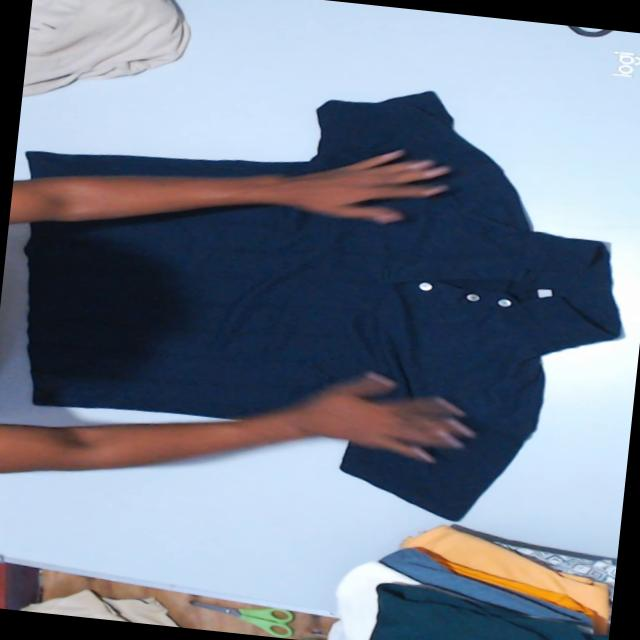new-garment: (24, 91, 619, 518)
